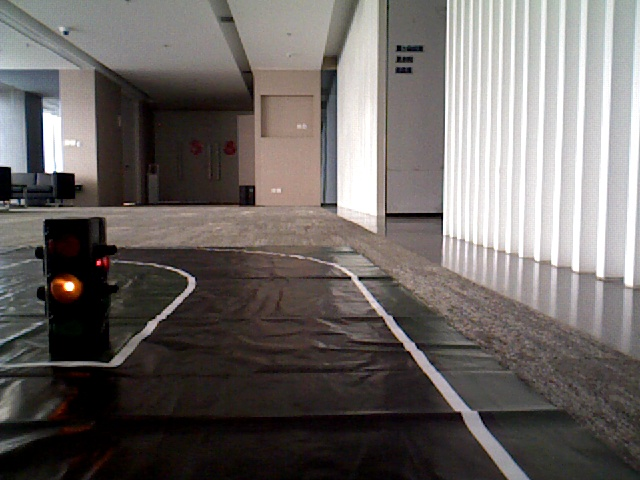yellow: (47, 224, 90, 338)
